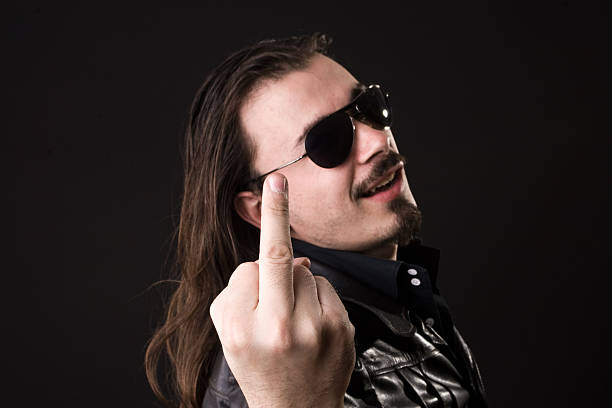insulting_gesture: (211, 171, 356, 408)
